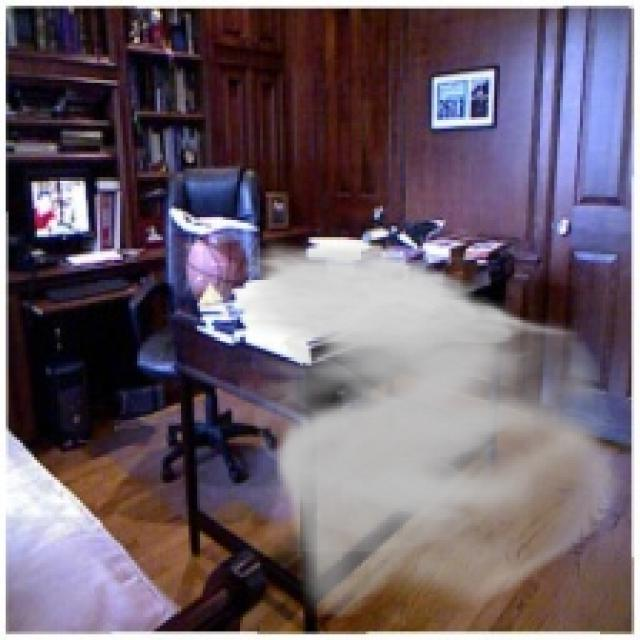smoke: (228, 237, 632, 617)
